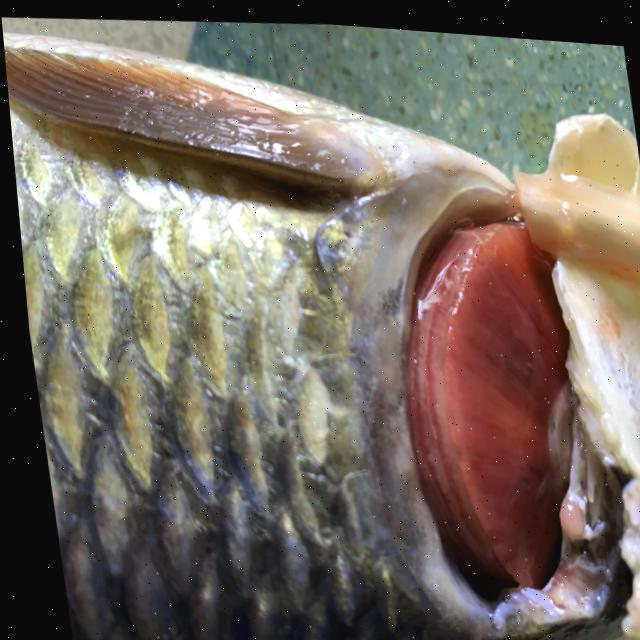Fresh: (356, 178, 628, 623)
